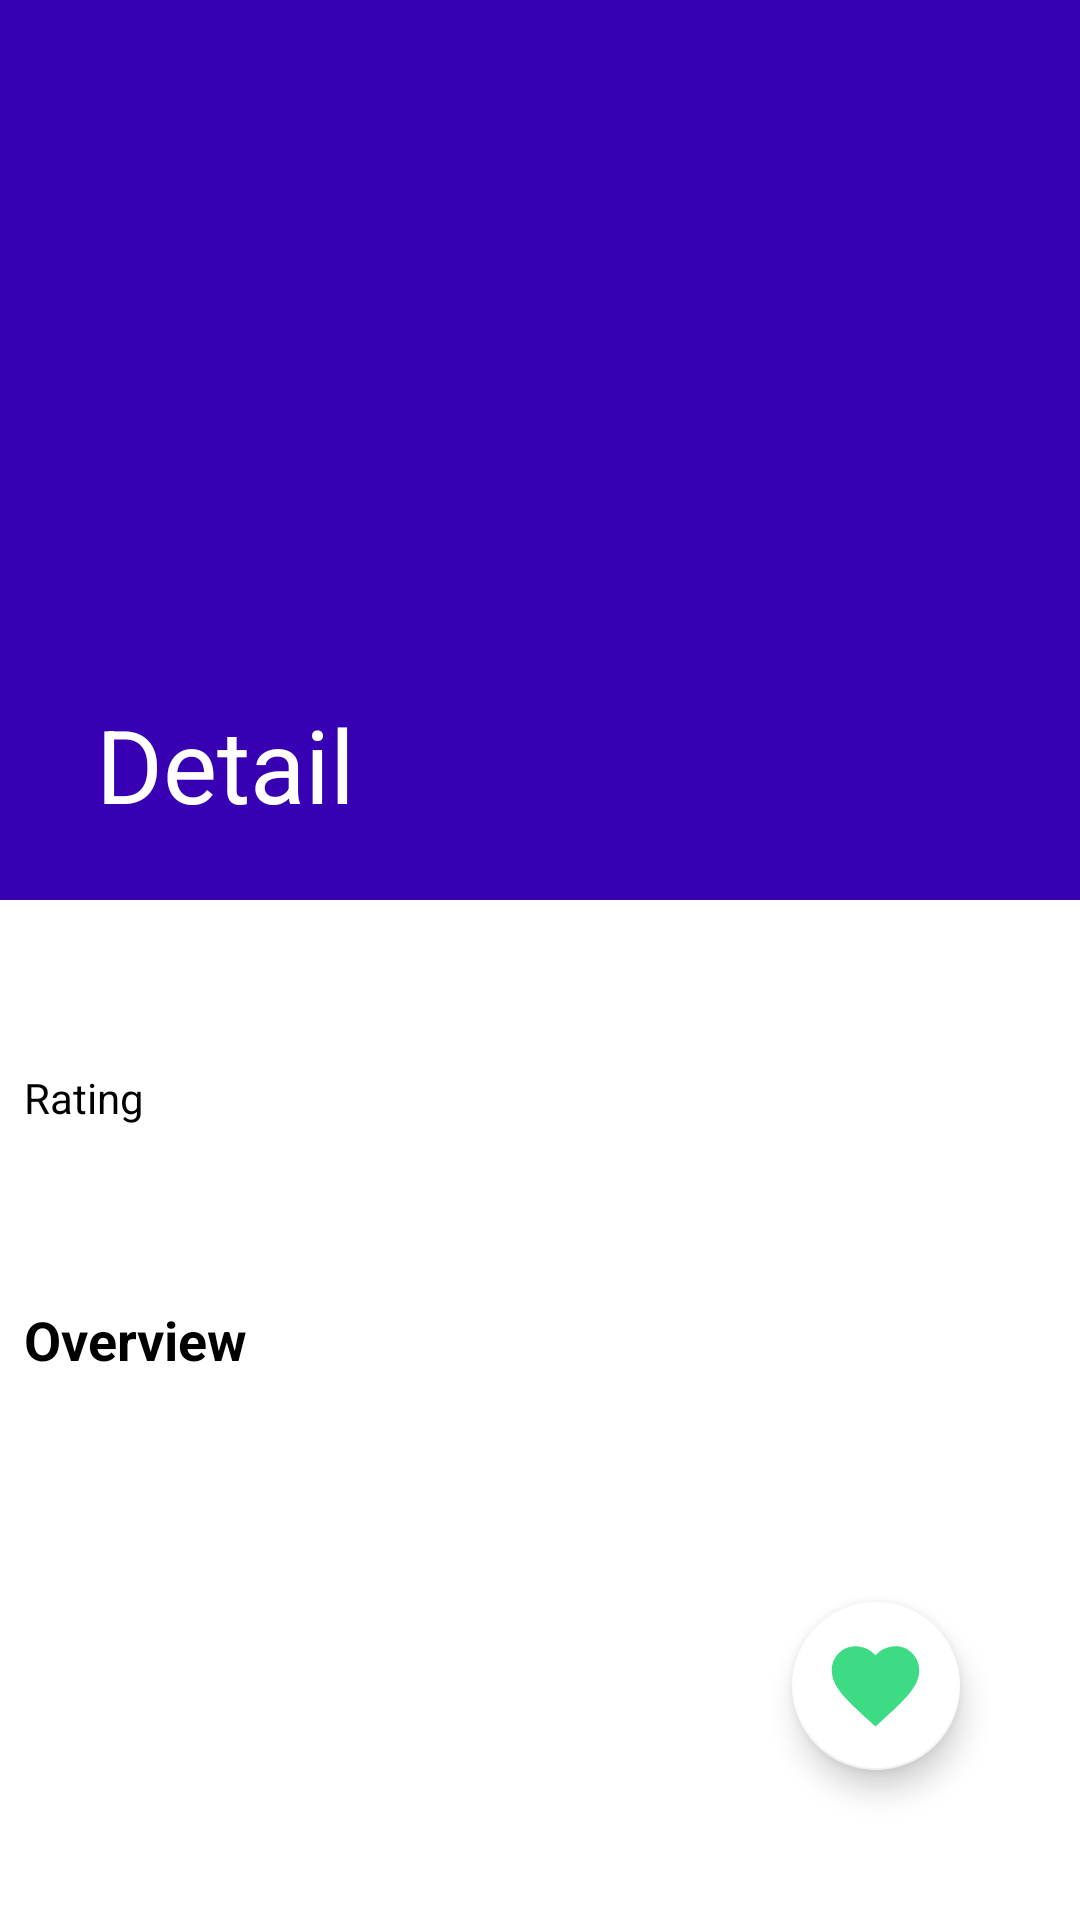

Screen size 1080w x 1920h. Icon name, then its box in pixels as (x1, y1, x2, y2):
favorite: (796, 1646, 920, 1727)
